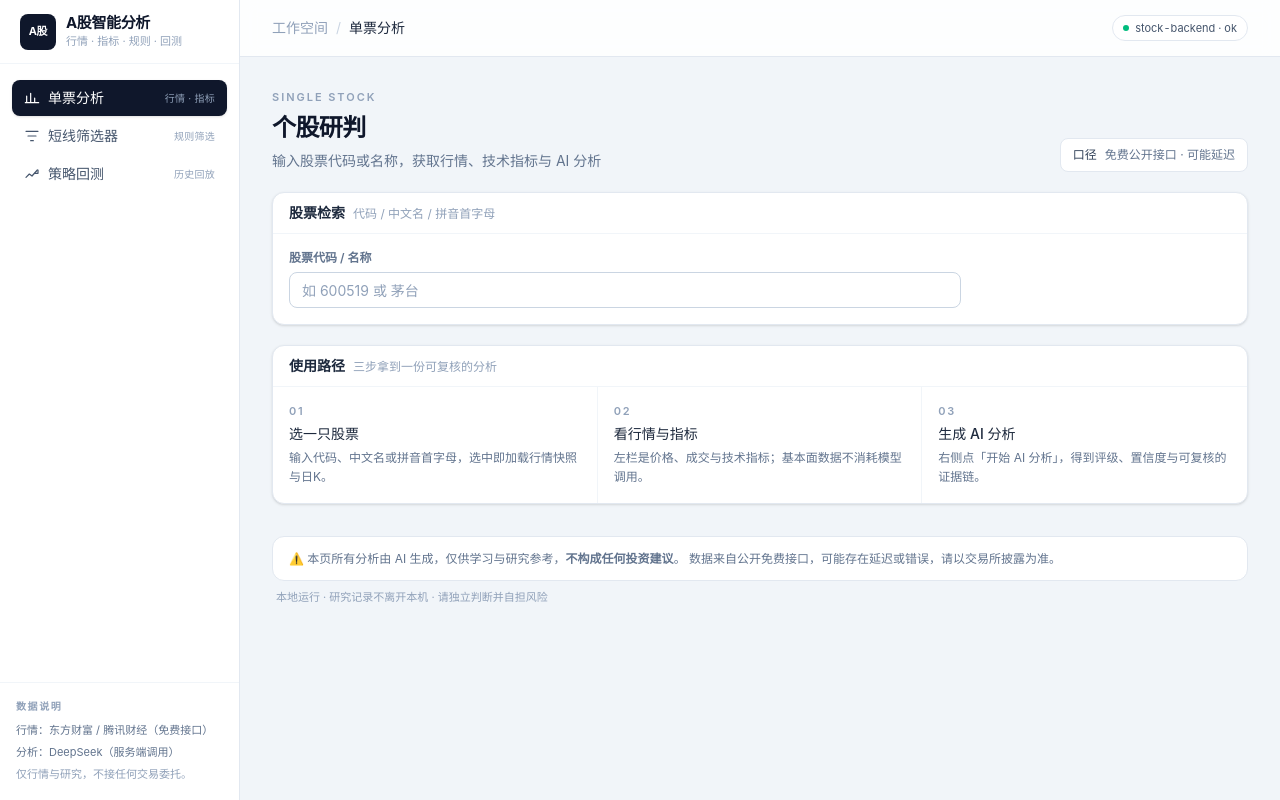
Test: App 两栏布局与指标面板 › 选中股票后展示技术指标面板（此前页面上不可见）
Type "茅台" into the dropdown labelled "股票代码 / 名称". click: (625, 290)
box: [289, 272, 961, 308]
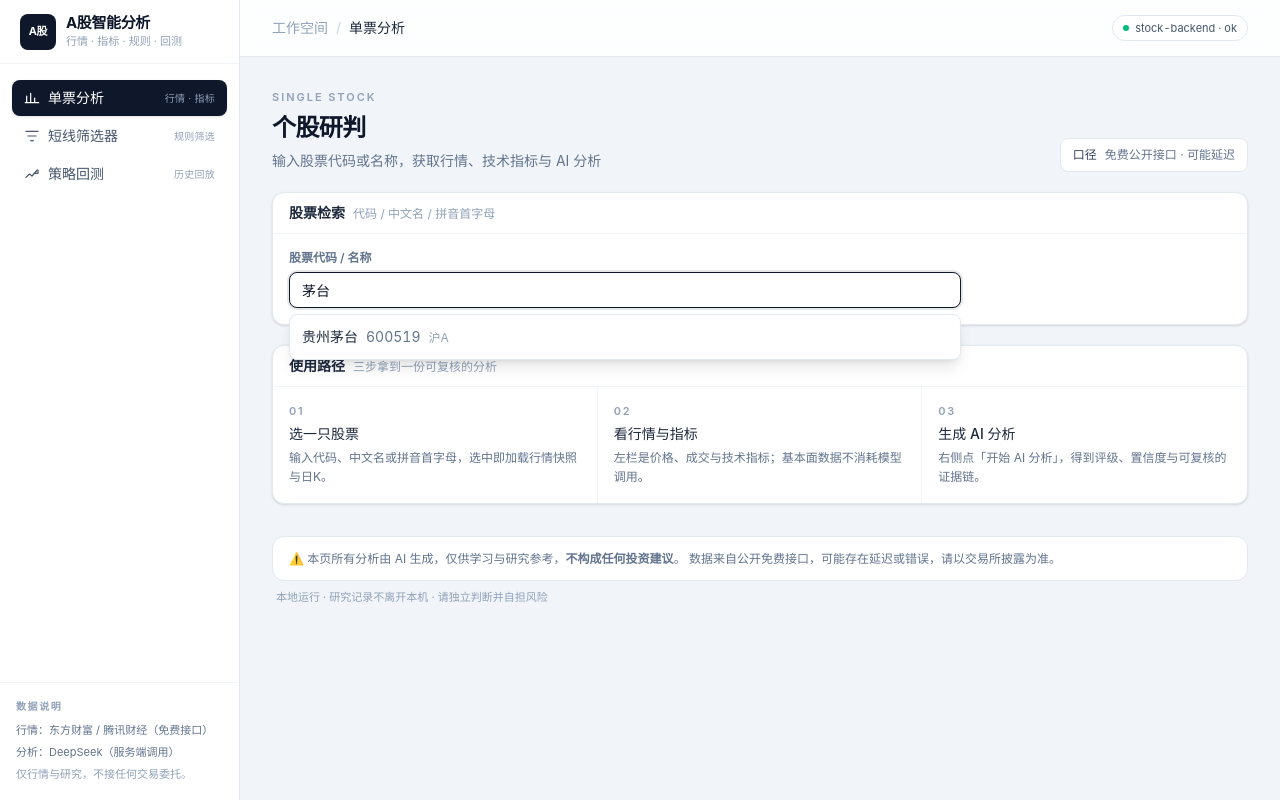
Click the option "贵州茅台600519沪A". click: (375, 337)
box: [302, 328, 449, 345]
(page scrolled)
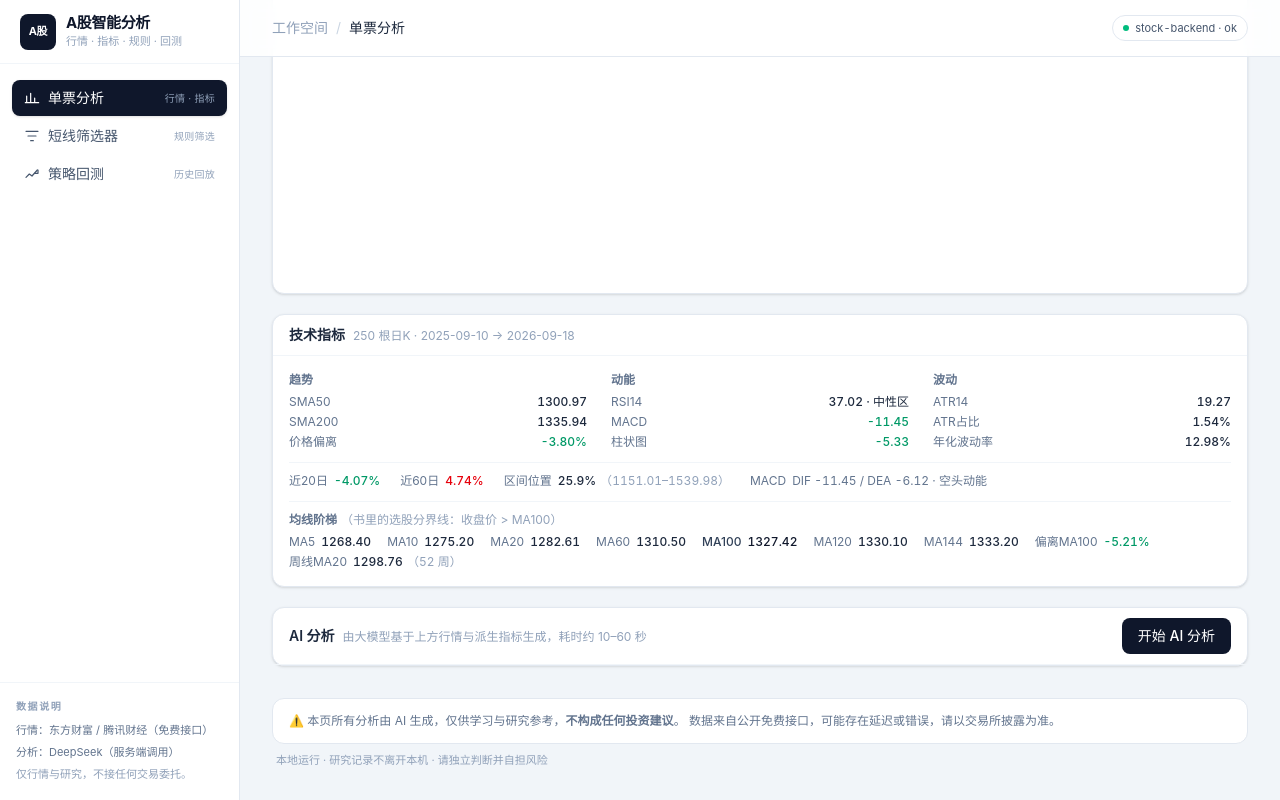
Expected: the heading "技术指标" is shown, [289, 325, 345, 345]
Expected: the text "1300.97" is shown, [537, 394, 587, 410]
